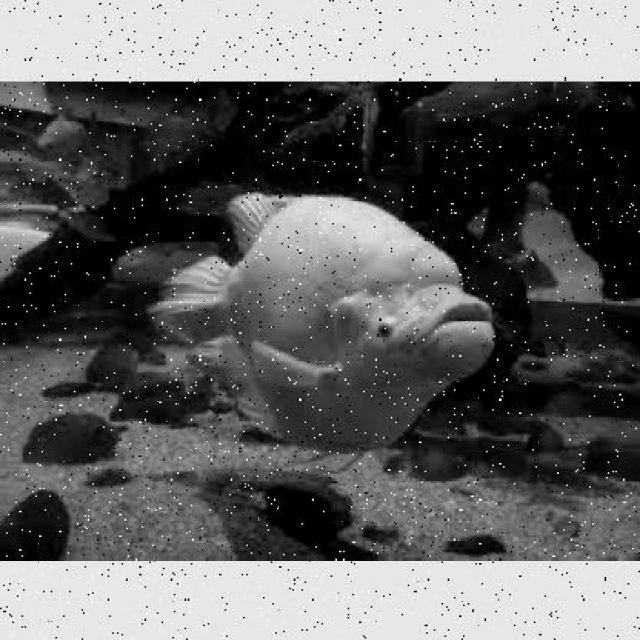gurame: (175, 185, 500, 464)
